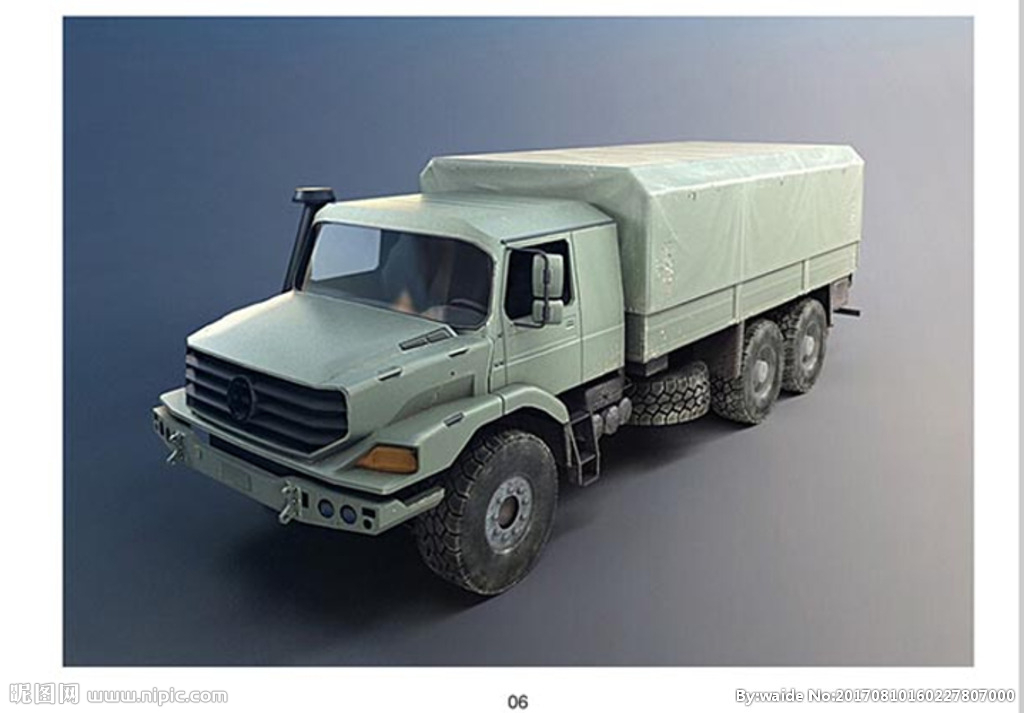truck: (157, 145, 889, 550)
